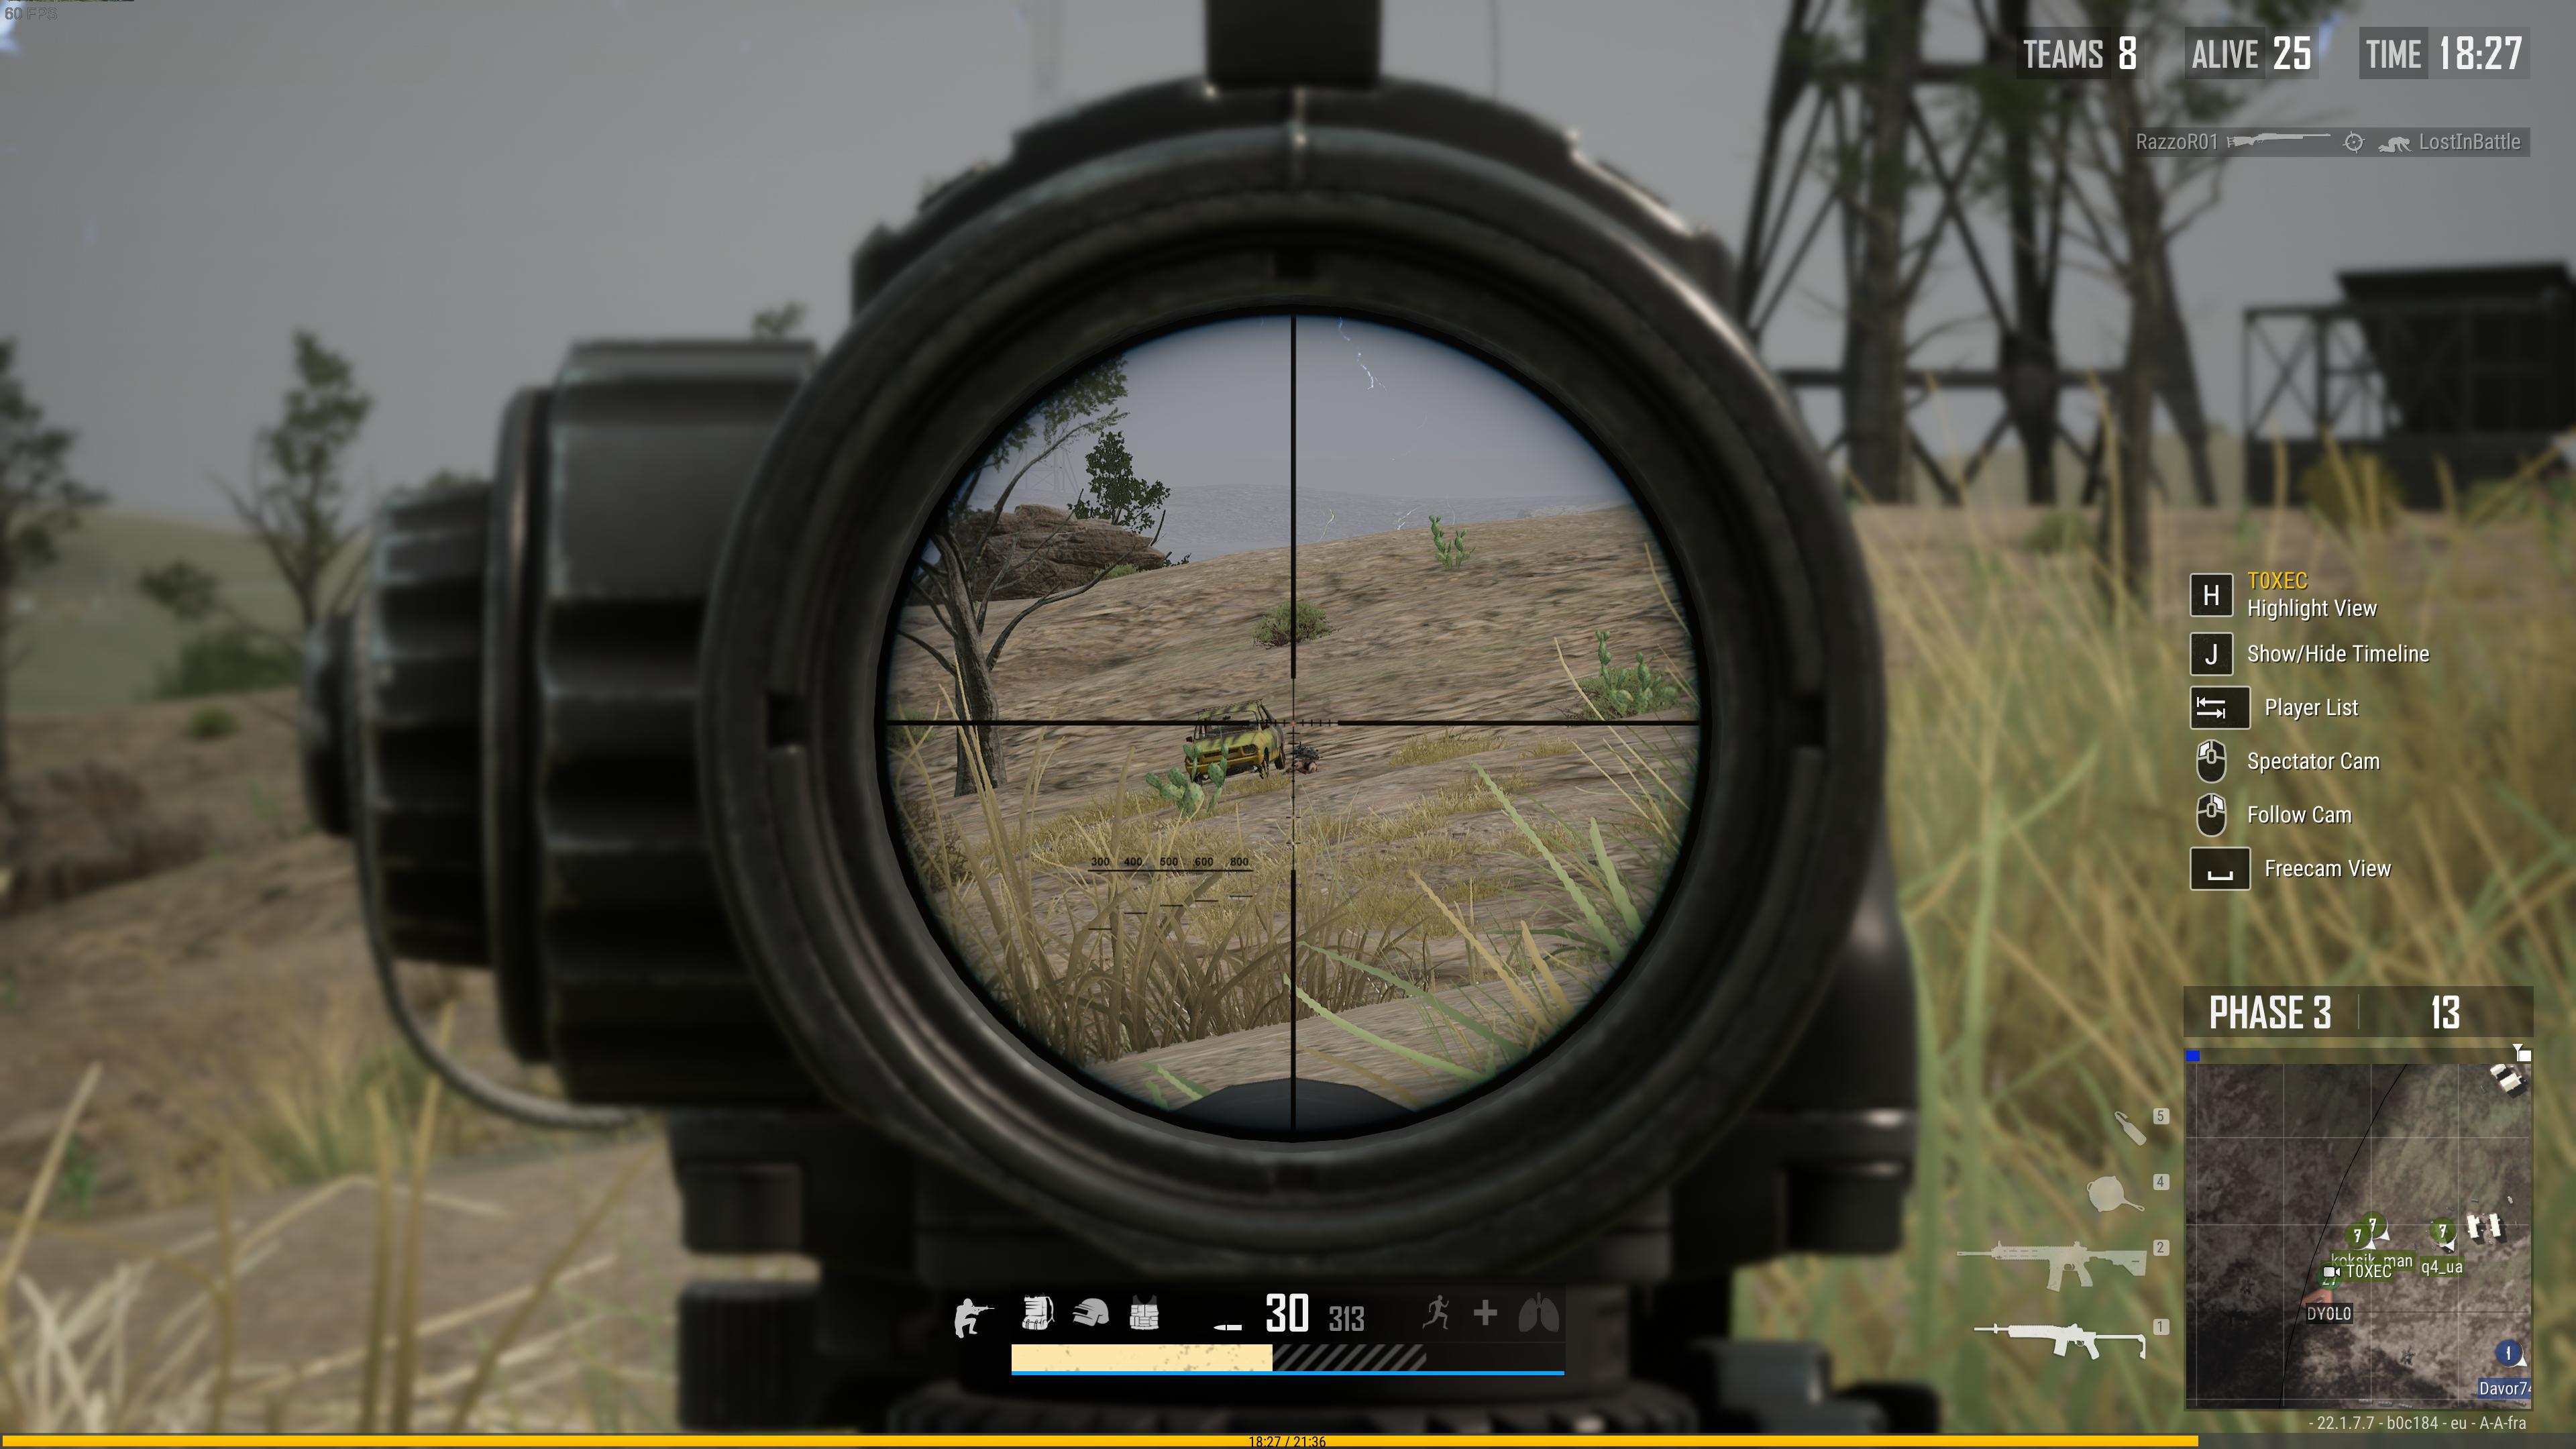enemy: (1284, 741, 1325, 773)
